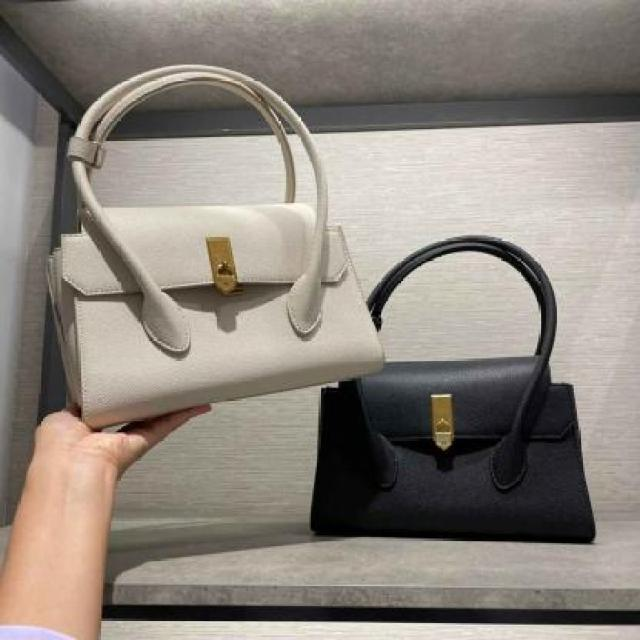Bag: (0, 38, 405, 434), (301, 191, 616, 567)
